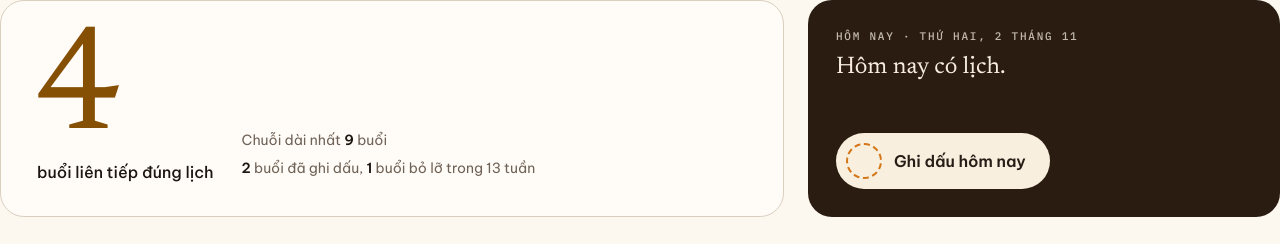
Test: HabitStreakPanel › reloads from the server when the result is unclear
This screenshot has width=1280, height=244.
Click the button "Ghi dấu hôm nay".
click(943, 161)  # box [836,133,1050,189]
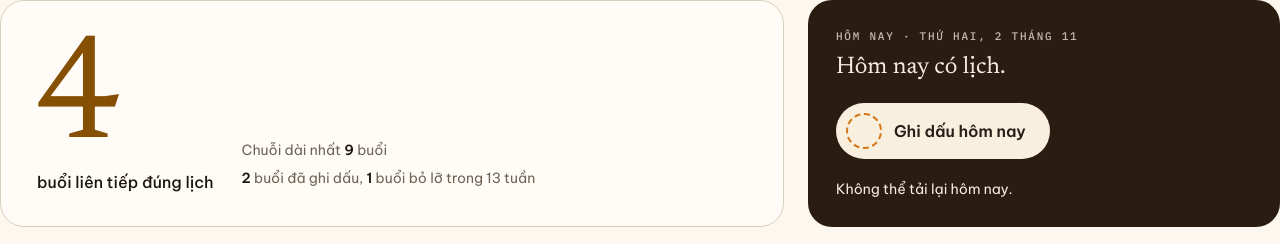
Expected: the message reads "Không thể tải lại hôm nay.", [836,180,1013,198]
